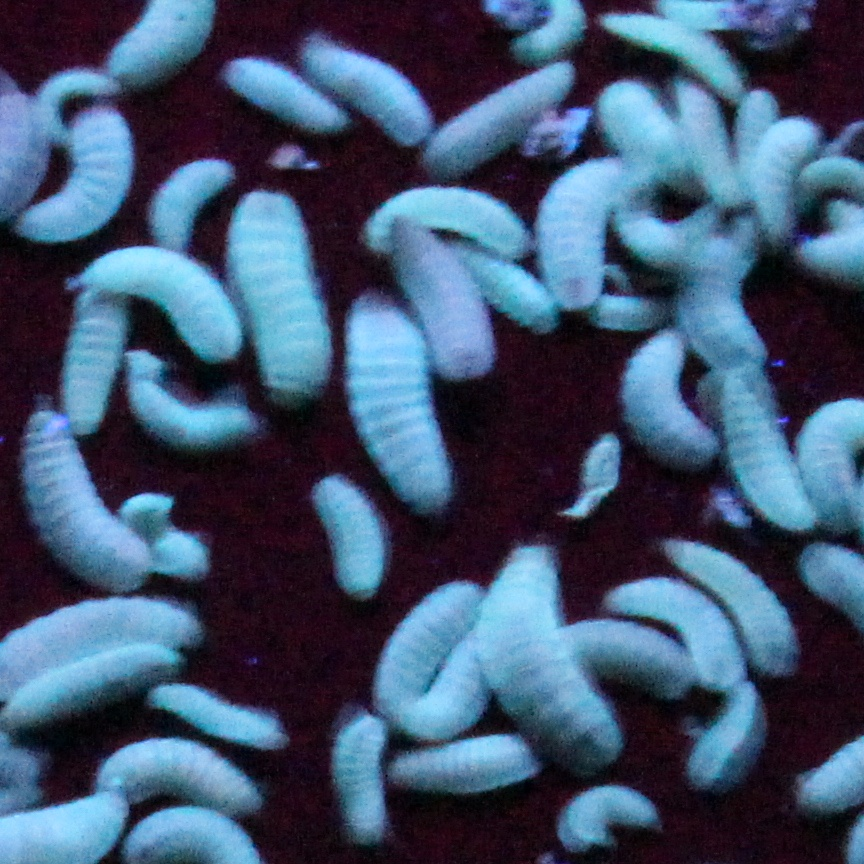larve: (507, 558, 625, 750), (28, 420, 146, 580), (671, 531, 800, 665), (364, 320, 453, 503), (250, 201, 320, 396), (92, 253, 228, 350), (115, 736, 261, 824), (441, 76, 569, 167), (17, 655, 186, 721), (411, 243, 490, 378), (135, 360, 258, 445), (32, 120, 125, 232), (732, 373, 799, 520), (656, 575, 754, 670), (323, 45, 425, 131), (588, 611, 700, 689), (690, 243, 764, 360), (367, 188, 528, 241), (634, 348, 711, 453), (373, 597, 456, 692), (171, 687, 286, 743), (618, 18, 728, 76), (807, 403, 860, 515), (755, 122, 811, 227), (623, 192, 709, 260), (328, 487, 381, 597), (558, 174, 600, 310), (609, 94, 674, 181), (342, 716, 393, 824), (72, 299, 114, 424), (681, 101, 730, 204), (232, 67, 327, 120), (407, 741, 532, 780), (700, 689, 756, 772), (158, 164, 220, 232), (429, 653, 481, 731), (571, 792, 659, 838), (474, 262, 548, 315), (50, 67, 102, 129), (735, 92, 764, 181), (599, 292, 653, 327)
